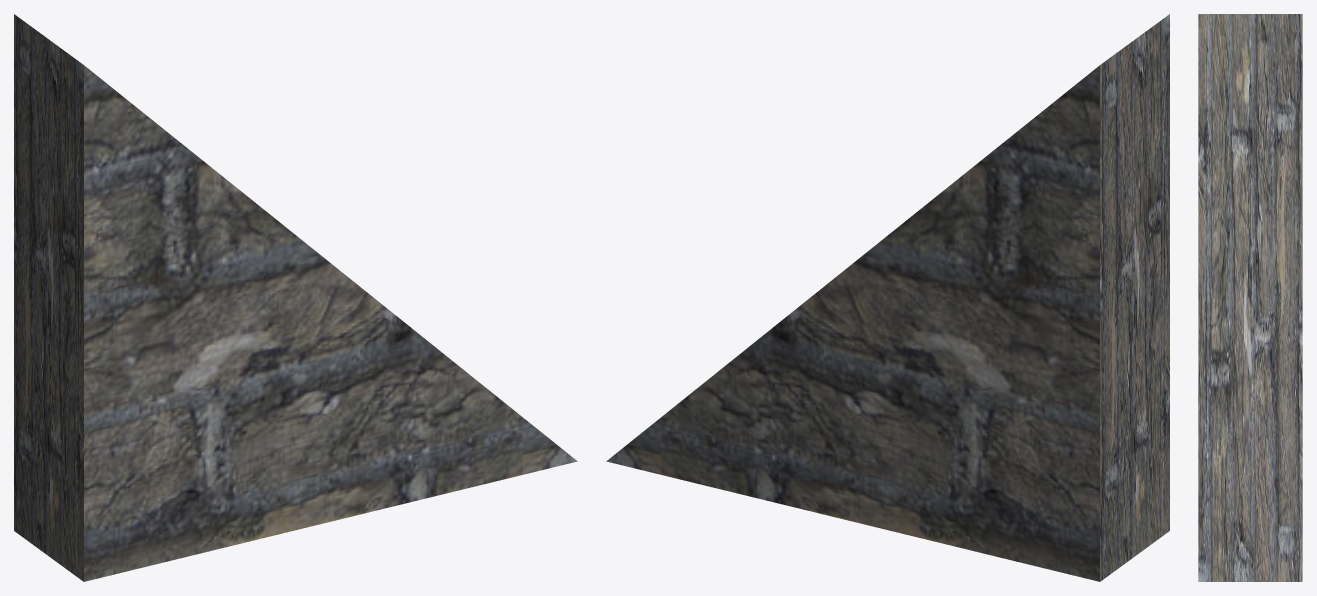
File: triangle_brick.glb
The picture shows the model from 3 angles, left to right: view 1: azimuth 30°, elevation 25°; view 2: azimuth 150°, elevation 25°; view 3: azimuth 270°, elevation 25°; orthographic projection. The views are drawn at different scales.
Parts seen in each view (by area): view 1: triangle; view 2: triangle; view 3: triangle.
Part boxes in pixels (bbox=[...]): triangle: bbox=[14, 14, 577, 581]; triangle: bbox=[606, 14, 1169, 581]; triangle: bbox=[1198, 14, 1302, 581].
Bounding box in the file's own units: 0.9 × 0.9 × 0.22.
1 material, 1 textured.
